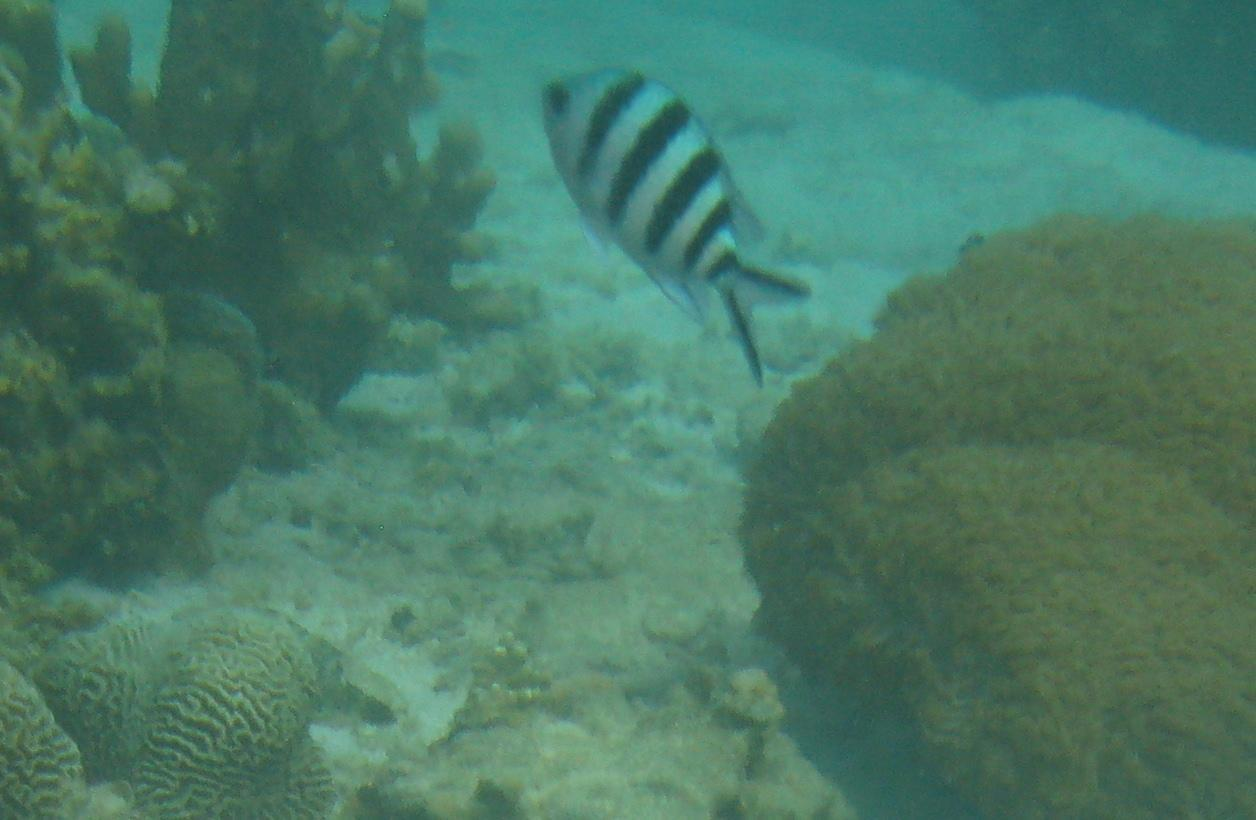Fish: (507, 25, 842, 416)
